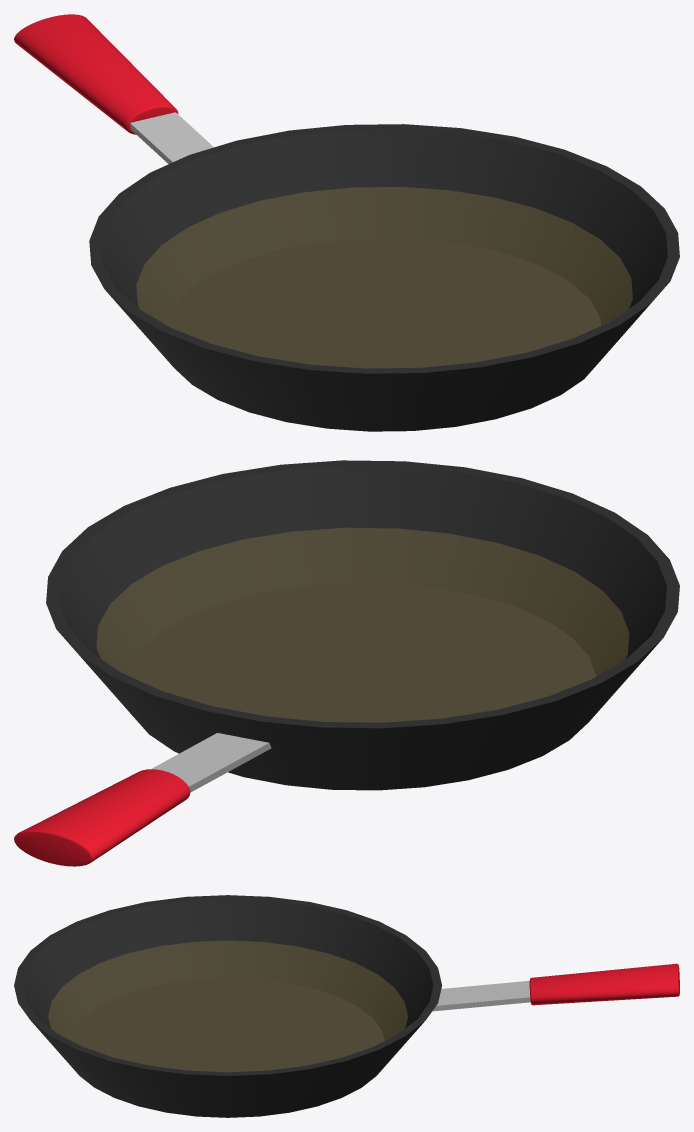
The model's file is Kawali_Oil.glb.
The picture shows the model from 3 angles, top to bottom: view 1: azimuth 30°, elevation 25°; view 2: azimuth 150°, elevation 25°; view 3: azimuth 270°, elevation 25°; orthographic projection. The views are drawn at different scales.
Visible parts, largest first — view 1: Circle, Circle.002, Circle.001; view 2: Circle, Circle.002, Circle.001; view 3: Circle, Circle.002, Circle.001.
Boxes of the visible parts, <box> form: Circle: <box>89,124,679,431</box>; Circle.002: <box>14,14,178,134</box>; Circle.001: <box>130,112,213,163</box>; Circle: <box>46,460,679,790</box>; Circle.002: <box>14,769,190,866</box>; Circle.001: <box>151,733,271,792</box>; Circle: <box>14,895,442,1117</box>; Circle.002: <box>529,963,679,1005</box>; Circle.001: <box>432,980,530,1011</box>.
Bounding box in the file's own units: 2.41 × 0.4465 × 3.75.
